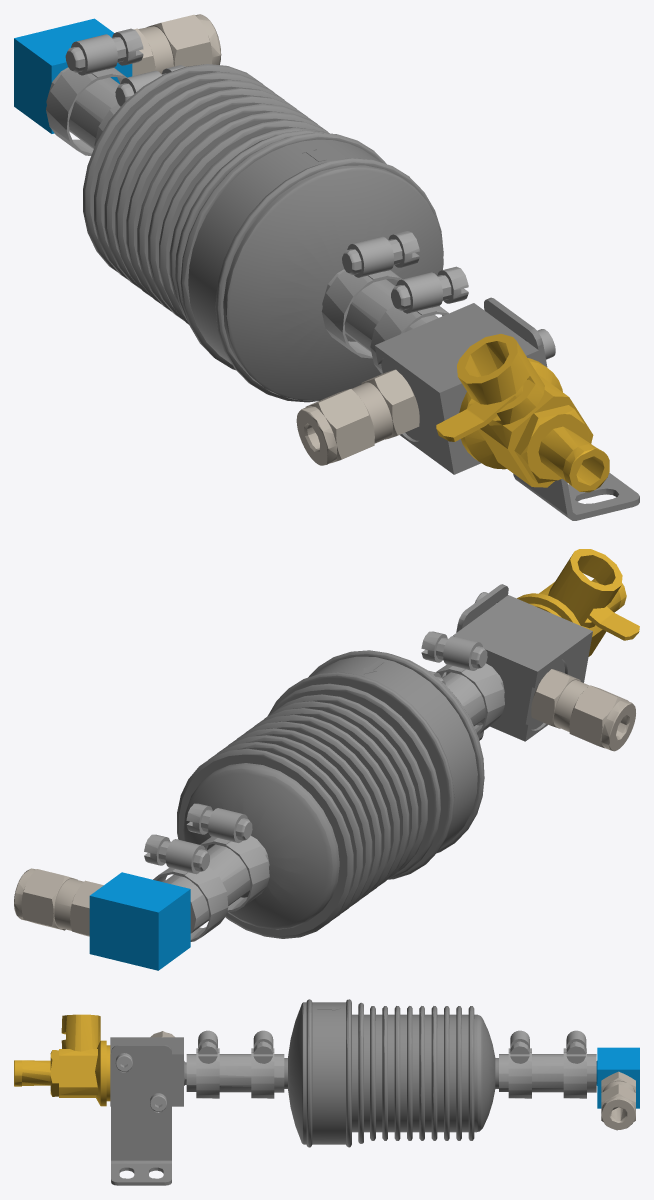
Rendered from oil traction filter assembly.fbx.
3 renders of one model, top to bottom at view 1: azimuth 30°, elevation 25°; view 2: azimuth 150°, elevation 25°; view 3: azimuth 270°, elevation 25°, orthographic. The views are drawn at different scales.
Parts seen in each view (by area): view 1: __PrenotatoPerDuplicare_286, __PrenotatoPerDuplicare_290, __PrenotatoPerDuplicare_284, __PrenotatoPerDuplicare_285, __PrenotatoPerDuplicare_289, __PrenotatoPerDuplicare_281, __PrenotatoPerDuplicare_291, __PrenotatoPerDuplicare_294, __PrenotatoPerDuplicare_296, __PrenotatoPerDuplicare_287, __PrenotatoPerDuplicare_288, __PrenotatoPerDuplicare_295 (+6 smaller); view 2: __PrenotatoPerDuplicare_286, __PrenotatoPerDuplicare_284, __PrenotatoPerDuplicare_289, __PrenotatoPerDuplicare_290, __PrenotatoPerDuplicare_285, __PrenotatoPerDuplicare_291, __PrenotatoPerDuplicare_288, __PrenotatoPerDuplicare_293, __PrenotatoPerDuplicare_296, __PrenotatoPerDuplicare_295, __PrenotatoPerDuplicare_287, __PrenotatoPerDuplicare_568 (+6 smaller); view 3: __PrenotatoPerDuplicare_286, __PrenotatoPerDuplicare_281, __PrenotatoPerDuplicare_290, __PrenotatoPerDuplicare_287, __PrenotatoPerDuplicare_288, __PrenotatoPerDuplicare_291, __PrenotatoPerDuplicare_289, __PrenotatoPerDuplicare_284, __PrenotatoPerDuplicare_295, __PrenotatoPerDuplicare_293, __PrenotatoPerDuplicare_294, __PrenotatoPerDuplicare_296 (+4 smaller).
Boxes of the visible parts, bbox=[...] form: __PrenotatoPerDuplicare_286: bbox=[83, 64, 443, 402]; __PrenotatoPerDuplicare_290: bbox=[436, 334, 609, 492]; __PrenotatoPerDuplicare_284: bbox=[374, 303, 540, 474]; __PrenotatoPerDuplicare_285: bbox=[296, 369, 419, 465]; __PrenotatoPerDuplicare_289: bbox=[14, 18, 132, 133]; __PrenotatoPerDuplicare_281: bbox=[484, 297, 639, 520]; __PrenotatoPerDuplicare_291: bbox=[132, 14, 221, 76]; __PrenotatoPerDuplicare_294: bbox=[321, 270, 402, 358]; __PrenotatoPerDuplicare_296: bbox=[46, 68, 126, 155]; __PrenotatoPerDuplicare_287: bbox=[322, 269, 438, 351]; __PrenotatoPerDuplicare_288: bbox=[46, 67, 119, 148]; __PrenotatoPerDuplicare_295: bbox=[370, 306, 448, 373]; __PrenotatoPerDuplicare_286: bbox=[177, 650, 484, 938]; __PrenotatoPerDuplicare_284: bbox=[446, 595, 592, 741]; __PrenotatoPerDuplicare_289: bbox=[89, 872, 190, 970]; __PrenotatoPerDuplicare_290: bbox=[517, 549, 639, 656]; __PrenotatoPerDuplicare_285: bbox=[531, 669, 635, 751]; __PrenotatoPerDuplicare_291: bbox=[14, 868, 103, 936]; __PrenotatoPerDuplicare_288: bbox=[163, 835, 269, 933]; __PrenotatoPerDuplicare_293: bbox=[200, 836, 269, 912]; __PrenotatoPerDuplicare_296: bbox=[153, 866, 228, 941]; __PrenotatoPerDuplicare_295: bbox=[436, 664, 504, 734]; __PrenotatoPerDuplicare_287: bbox=[442, 663, 504, 726]; __PrenotatoPerDuplicare_568: bbox=[186, 803, 252, 840]; __PrenotatoPerDuplicare_286: bbox=[284, 999, 498, 1147]; __PrenotatoPerDuplicare_281: bbox=[111, 1045, 171, 1185]; __PrenotatoPerDuplicare_290: bbox=[14, 1014, 110, 1106]; __PrenotatoPerDuplicare_287: bbox=[186, 1054, 284, 1092]; __PrenotatoPerDuplicare_288: bbox=[499, 1054, 596, 1092]; __PrenotatoPerDuplicare_291: bbox=[601, 1071, 635, 1130]; __PrenotatoPerDuplicare_289: bbox=[596, 1047, 639, 1108]; __PrenotatoPerDuplicare_284: bbox=[110, 1037, 186, 1106]; __PrenotatoPerDuplicare_295: bbox=[196, 1048, 219, 1098]; __PrenotatoPerDuplicare_293: bbox=[508, 1048, 531, 1098]; __PrenotatoPerDuplicare_294: bbox=[251, 1048, 274, 1098]; __PrenotatoPerDuplicare_296: bbox=[563, 1048, 586, 1098].
Size of the model in its own units: 0.0808 by 0.0637 by 0.2567.
